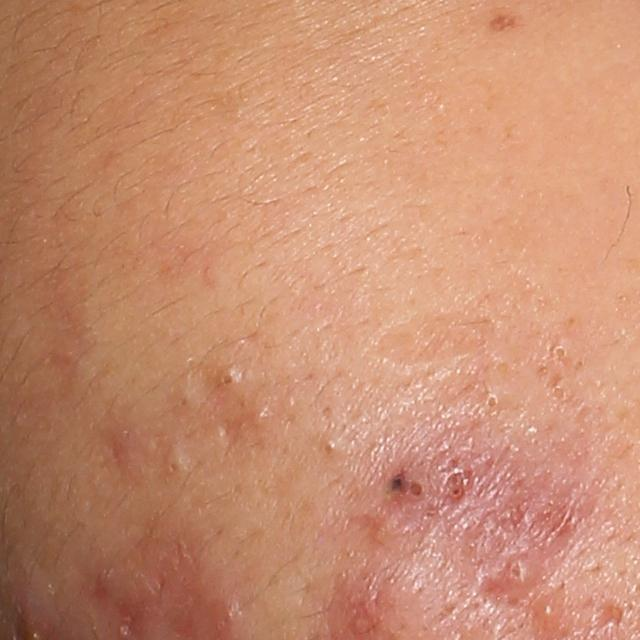atrophic_scar: (368, 415, 586, 553), (370, 318, 495, 377), (180, 356, 243, 421), (211, 404, 281, 450)
comedo: (159, 442, 198, 486), (217, 361, 249, 395), (552, 344, 569, 365), (321, 437, 335, 459), (486, 391, 501, 410)
papule: (435, 449, 475, 506), (532, 592, 573, 638), (497, 552, 539, 596)
